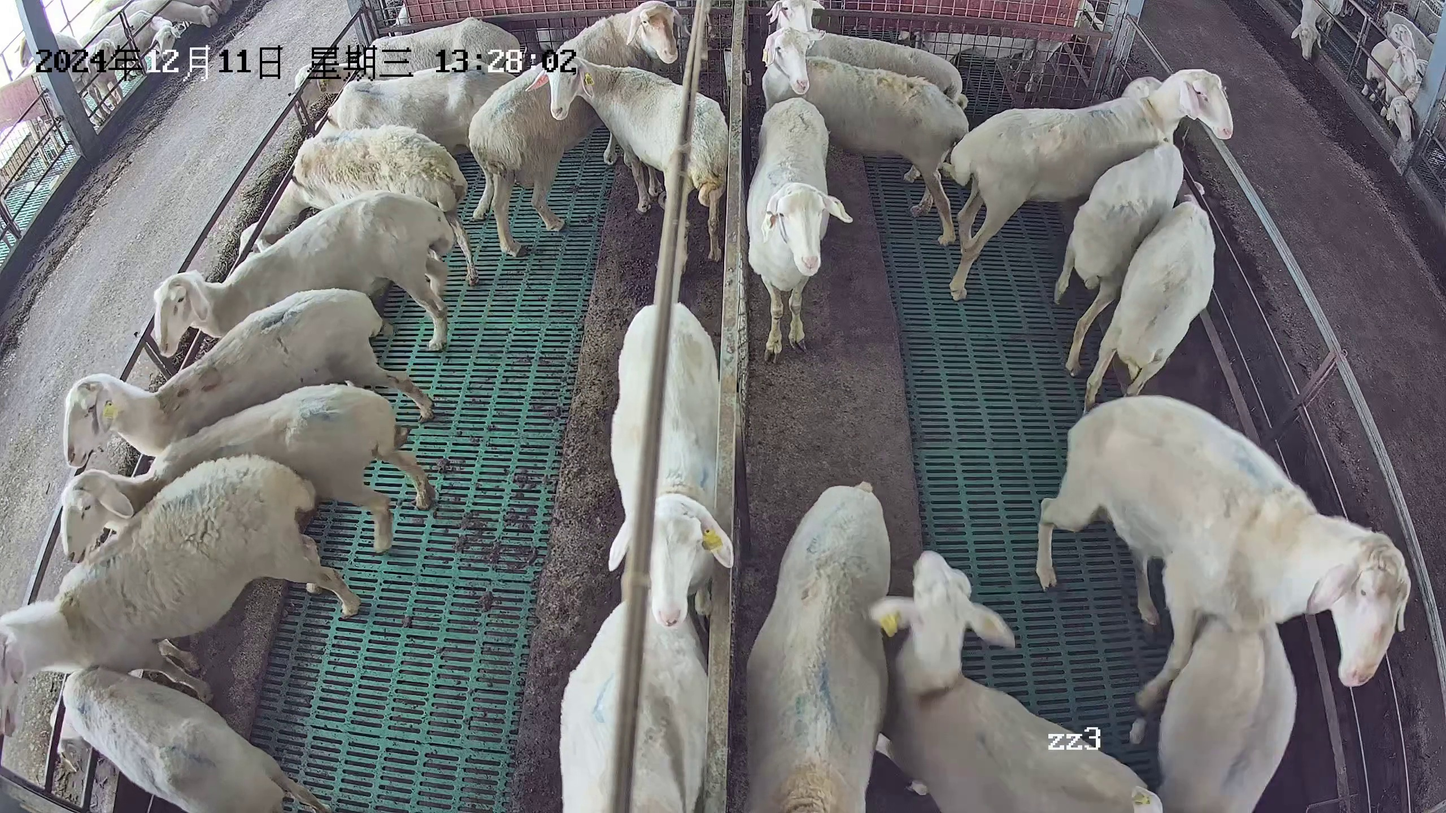Smounting: (1034, 392, 1412, 813)
mounted: (1152, 604, 1300, 813)
